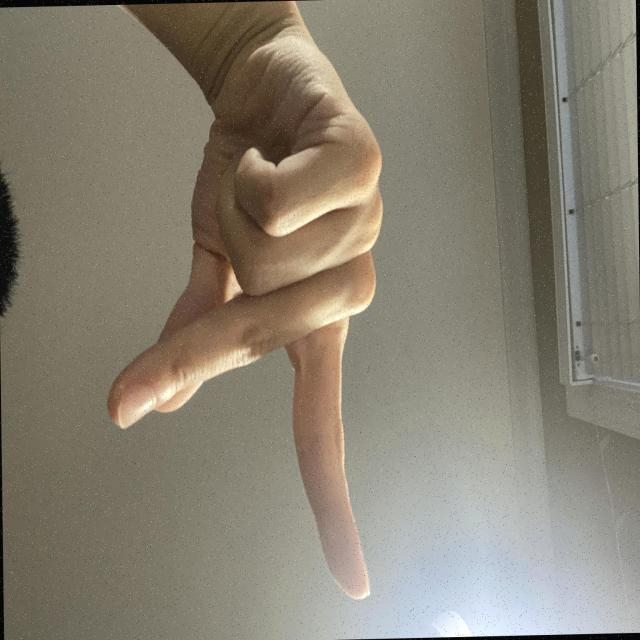P: (160, 326, 619, 640)
